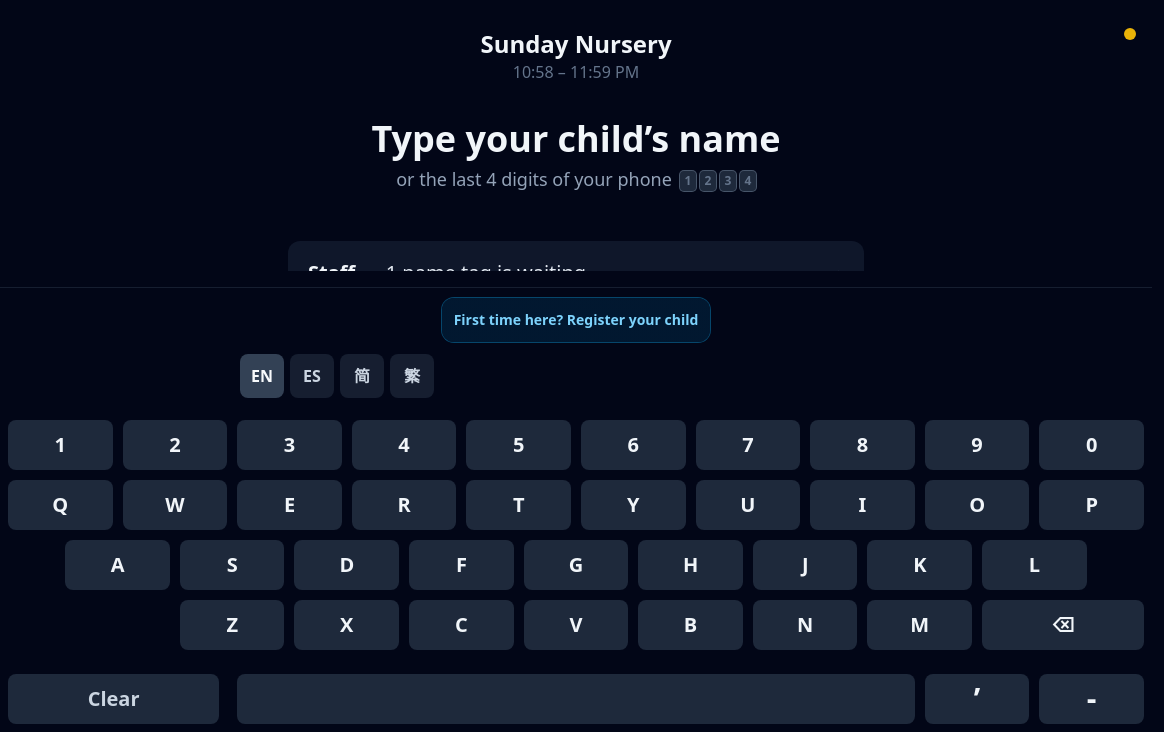
Test: the staff menu › still opens under a hold while tags are owed
Press the mouse on the button "Clear": (114, 699) [8,674,219,724]
Wait 2200 ms
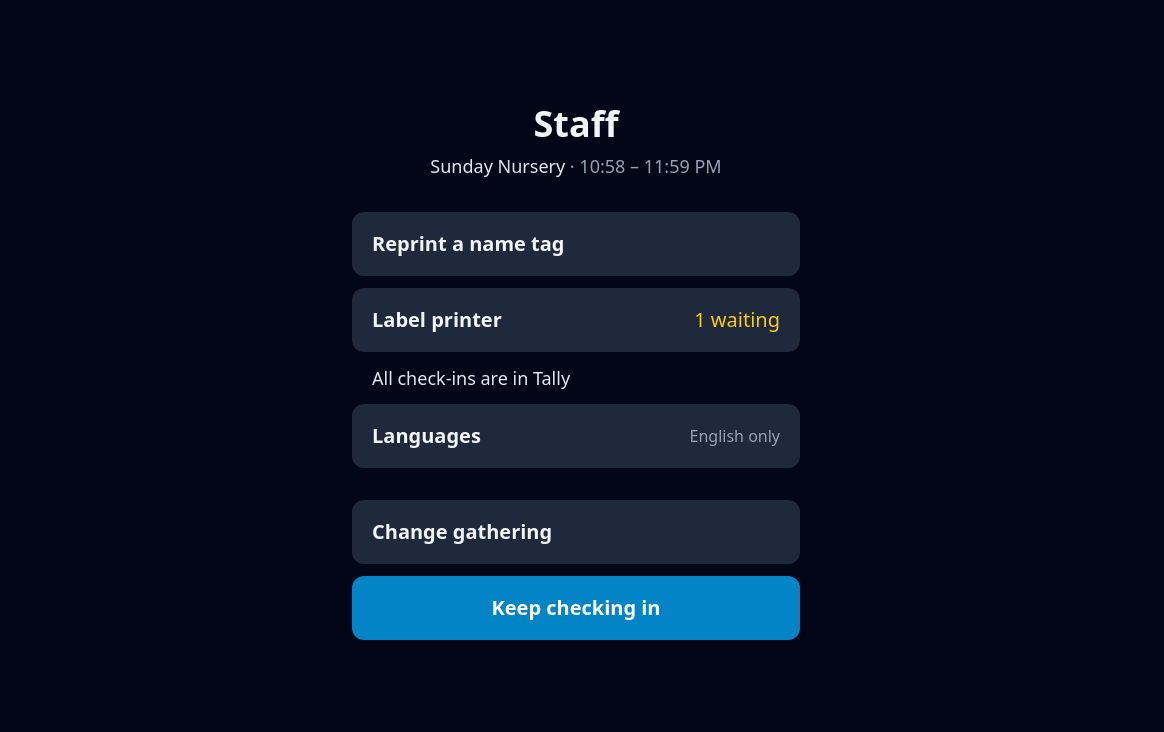
Result: the button "Reprint a name tag" is shown at [352,212,800,276]
